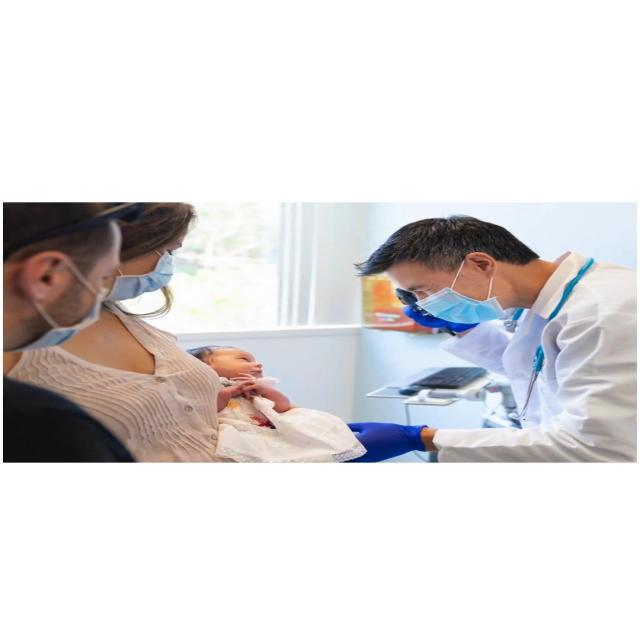Mask: (364, 240, 532, 330), (111, 230, 189, 302)
NO-Mask: (6, 236, 118, 331), (206, 346, 264, 382)
